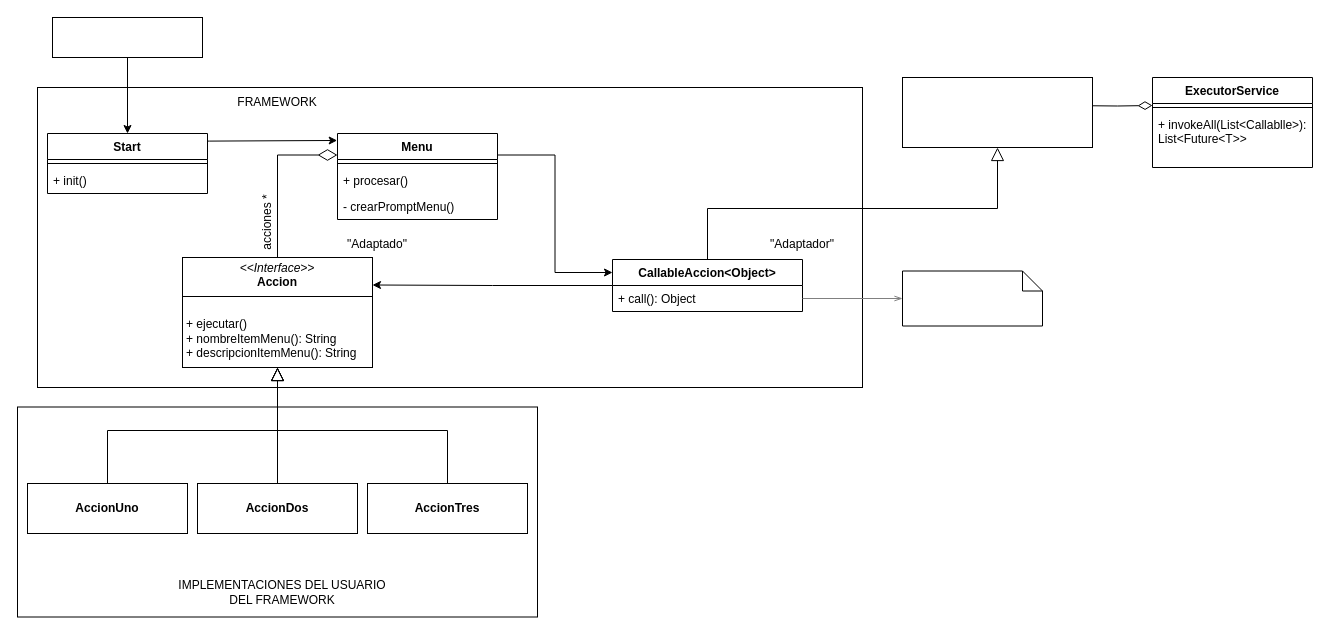
This 1330x635 diagram has some shape labels left out. Each missing label, with the centre of its shape:
"<<Interface>> Callable<T> + call(): T" belongs at pixel 997 112.
"Main" belongs at pixel 127 37.
"this.accion.ejecutar();" belongs at pixel 972 298.
